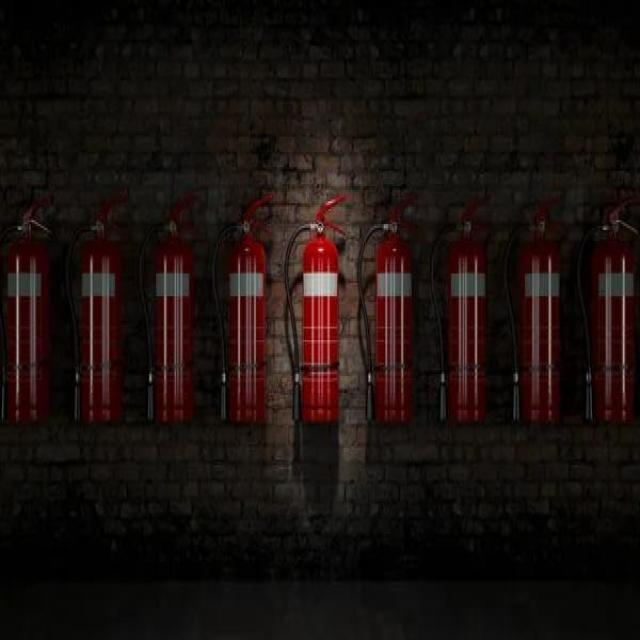fire_extinguisher: (207, 185, 277, 428), (428, 185, 498, 425), (60, 189, 129, 430), (353, 186, 421, 426), (134, 190, 201, 431), (500, 206, 572, 428), (573, 188, 639, 427), (283, 190, 347, 423), (0, 186, 54, 427)
